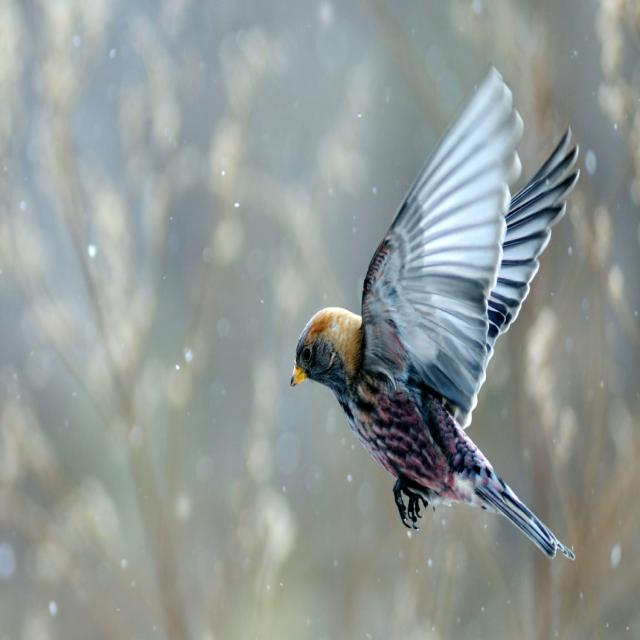bird: (293, 55, 596, 588)
